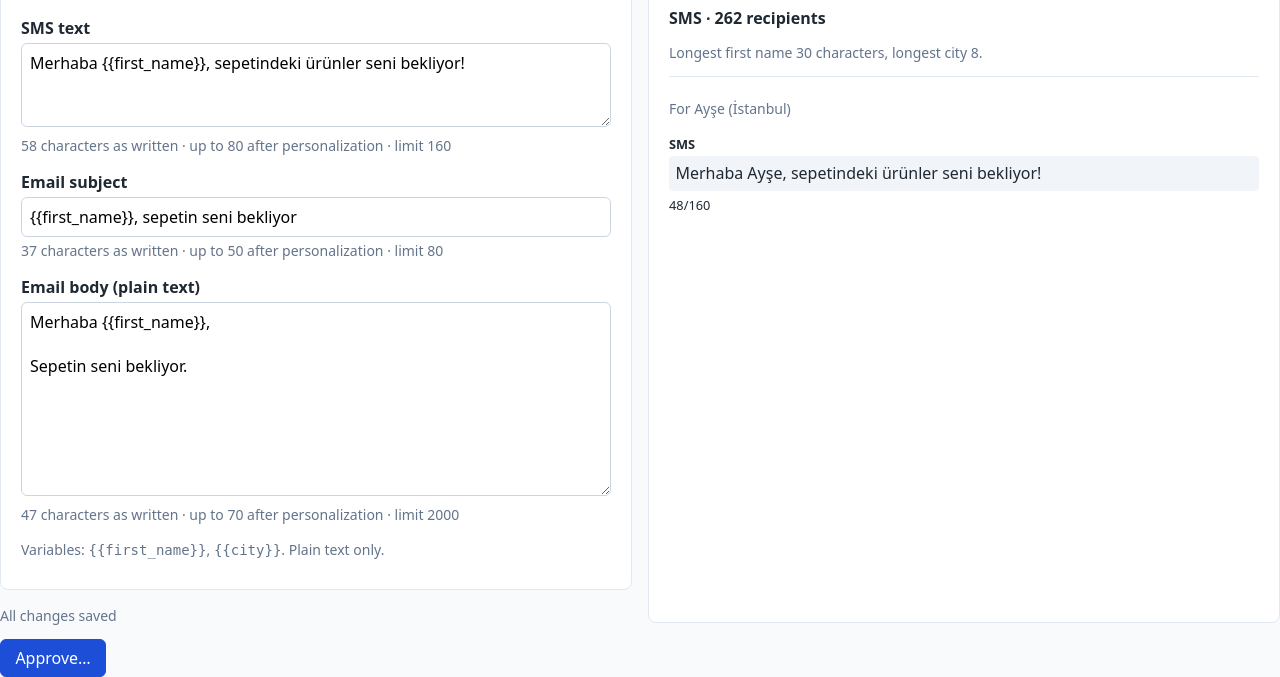
it: CampaignReviewView scheduling › shows a backend rejection of the scheduled time
The width and height of the screenshot is (1280, 677).
(page scrolled)
Click the button with test id "approve" at (53, 658), box [0,639,106,676]
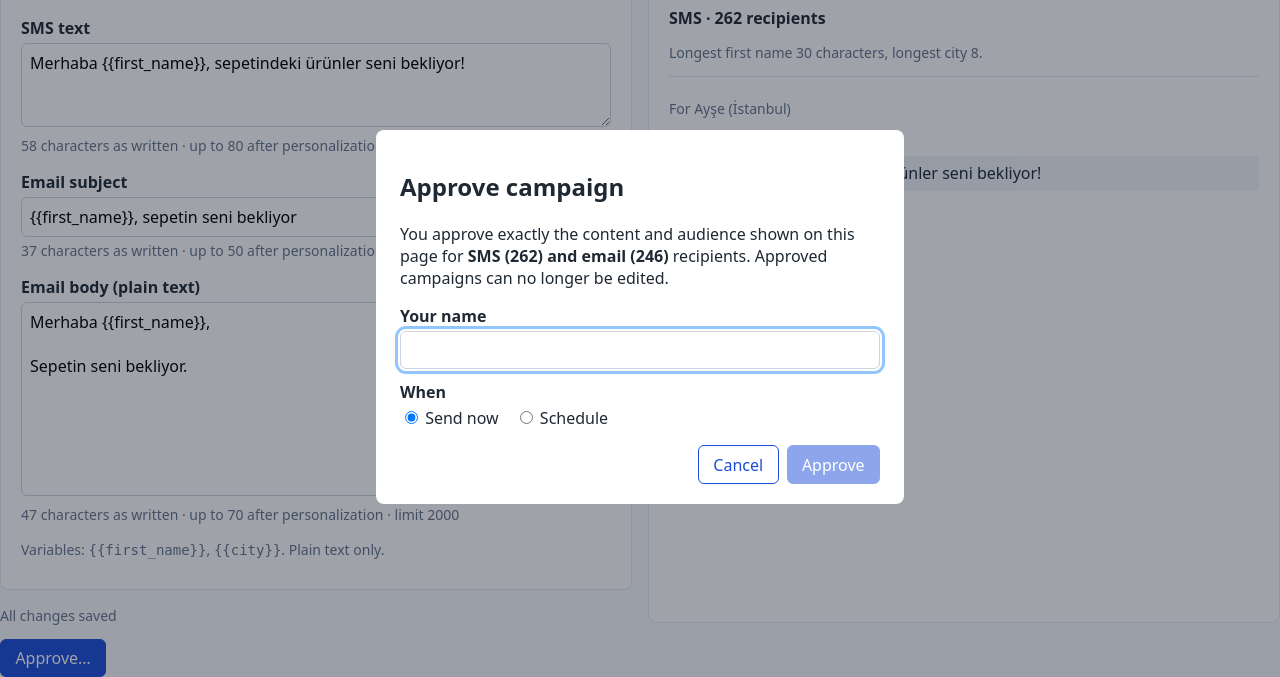
Type "Deniz" into the field with id "approver-name" at (640, 350), box [400,331,880,369]
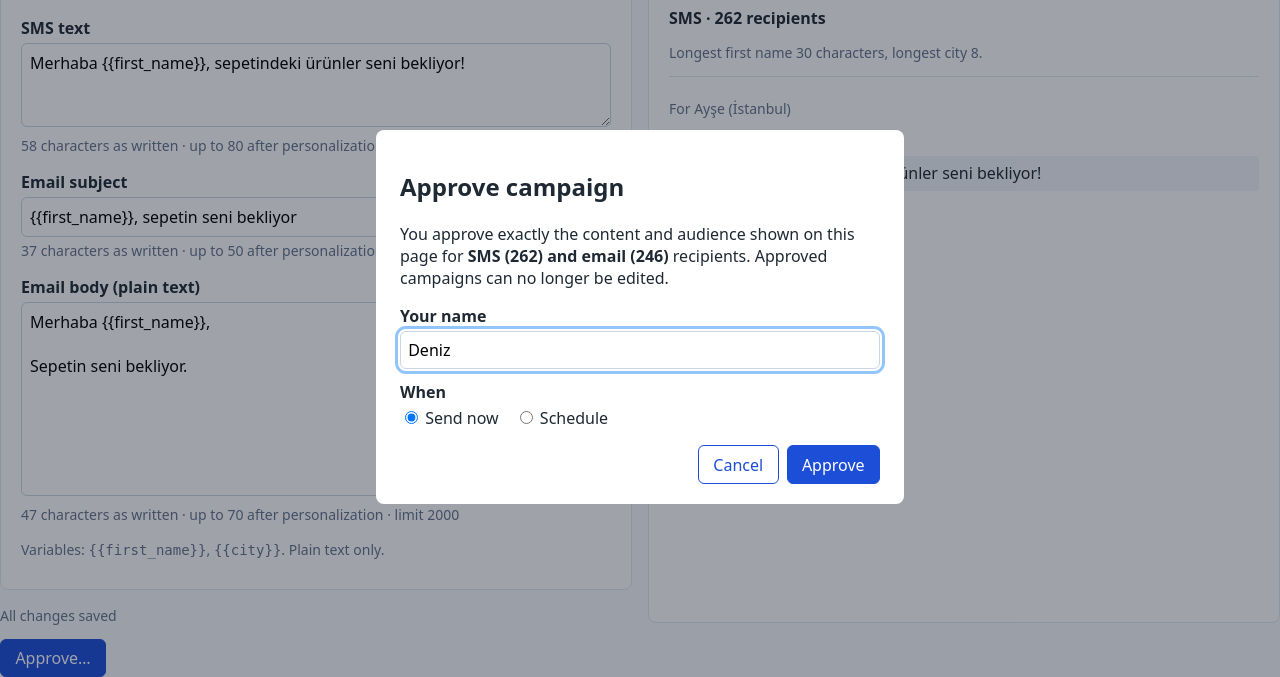
Click the radio button with test id "when-schedule" at (526, 418), box [520,411,533,424]
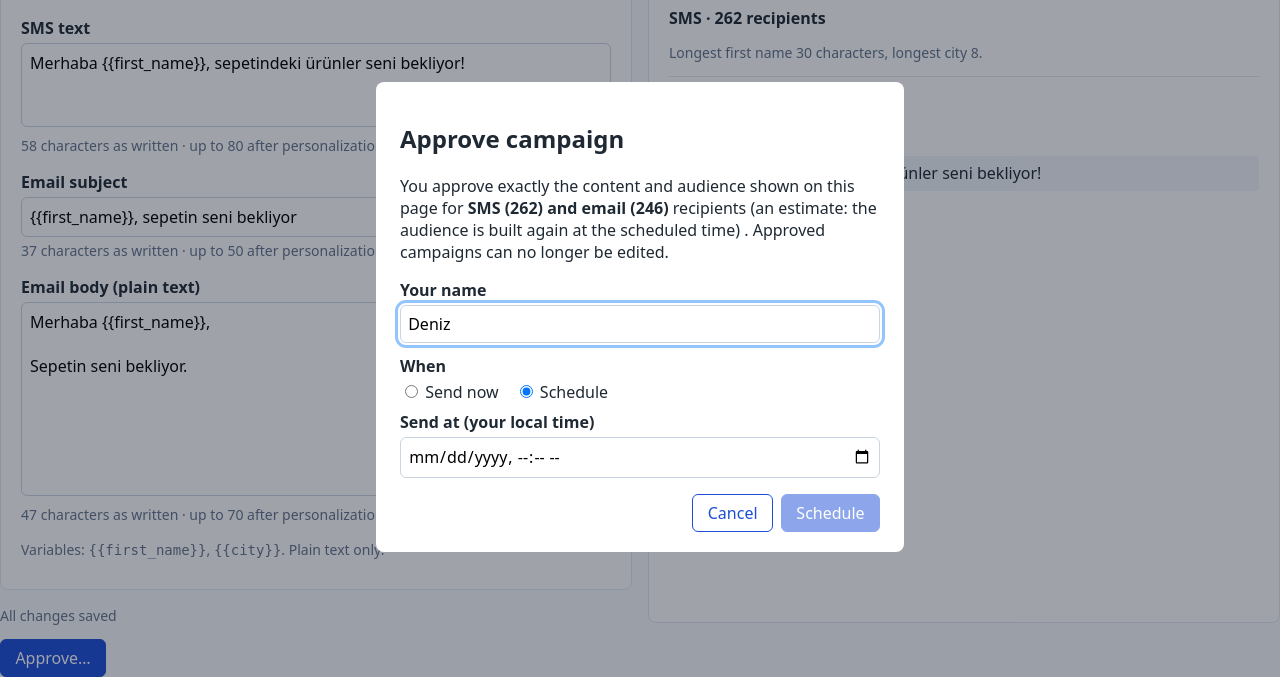
Type "2026-10-22T15:00" into the field labelled "Send at (your local time)" at (640, 457), box [400,437,880,478]
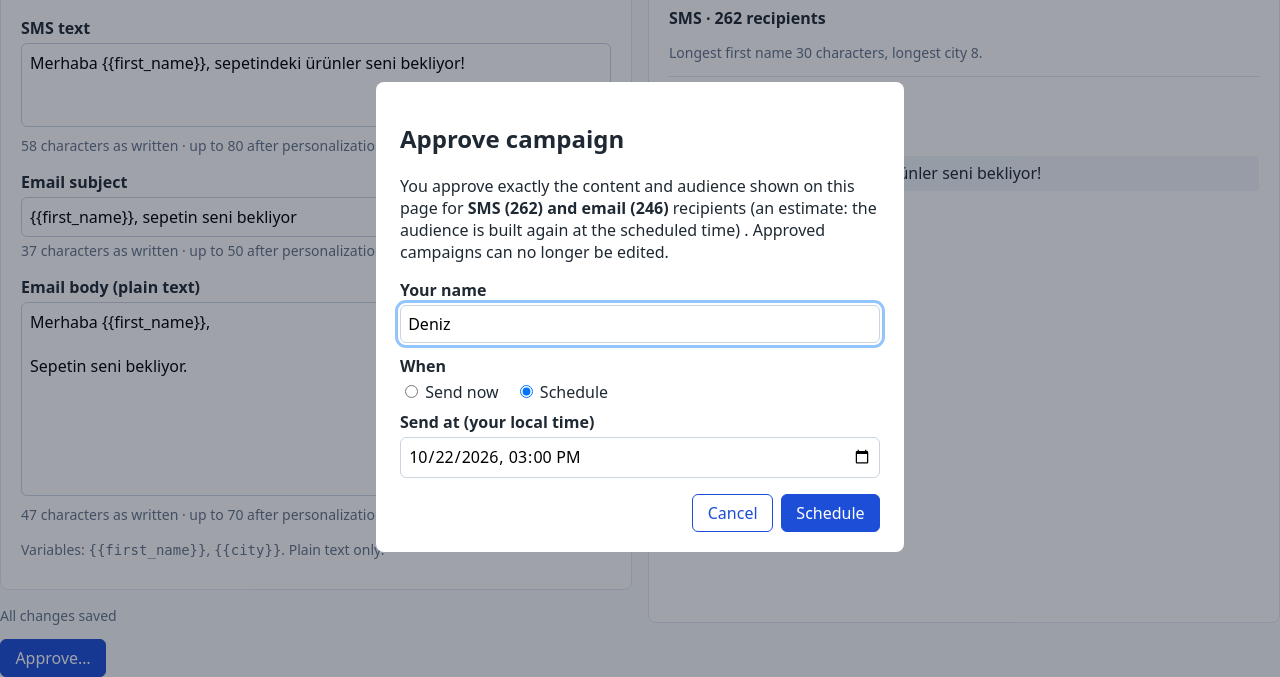
Submit the form, box [400,279,880,532]
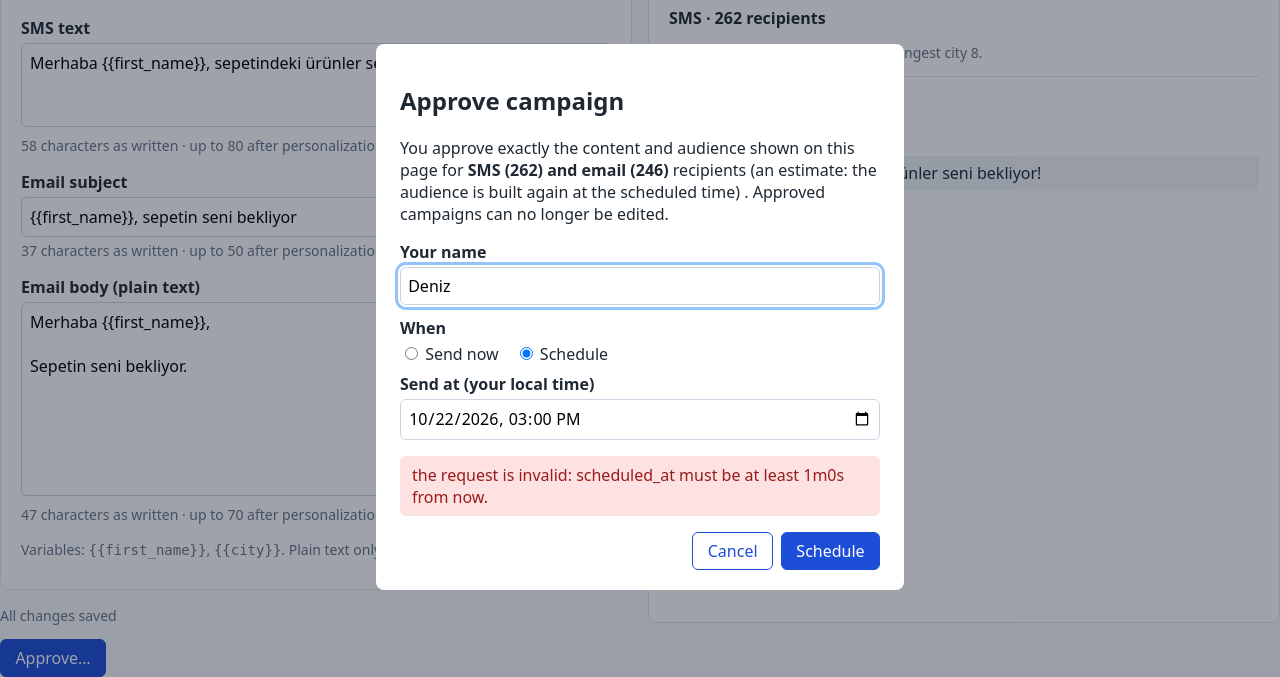
Now the message "the request is invalid: scheduled_at must be at least 1m0s from now." is shown, box [400,456,880,516]
